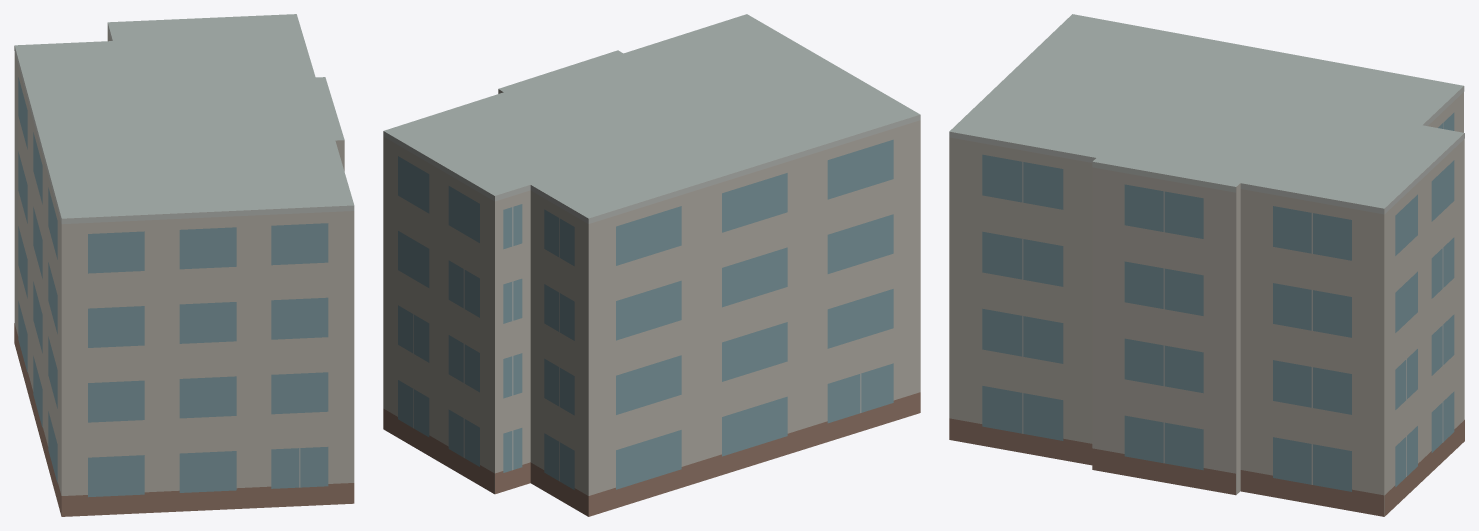
The model's file is survey-upis-32685477.glb.
3 views of the same model, side by side, from view 1: azimuth 30°, elevation 25°; view 2: azimuth 150°, elevation 25°; view 3: azimuth 270°, elevation 25° (orthographic). The views are drawn at different scales.
Parts seen in each view (by area): view 1: survey-upis-32685477.tmp; view 2: survey-upis-32685477.tmp; view 3: survey-upis-32685477.tmp.
Part boxes in pixels (bbox=[...]): survey-upis-32685477.tmp: bbox=[14, 14, 354, 516]; survey-upis-32685477.tmp: bbox=[383, 14, 920, 516]; survey-upis-32685477.tmp: bbox=[949, 14, 1464, 516].
Size of the model in its own units: 17.76 by 13.1 by 19.87.
